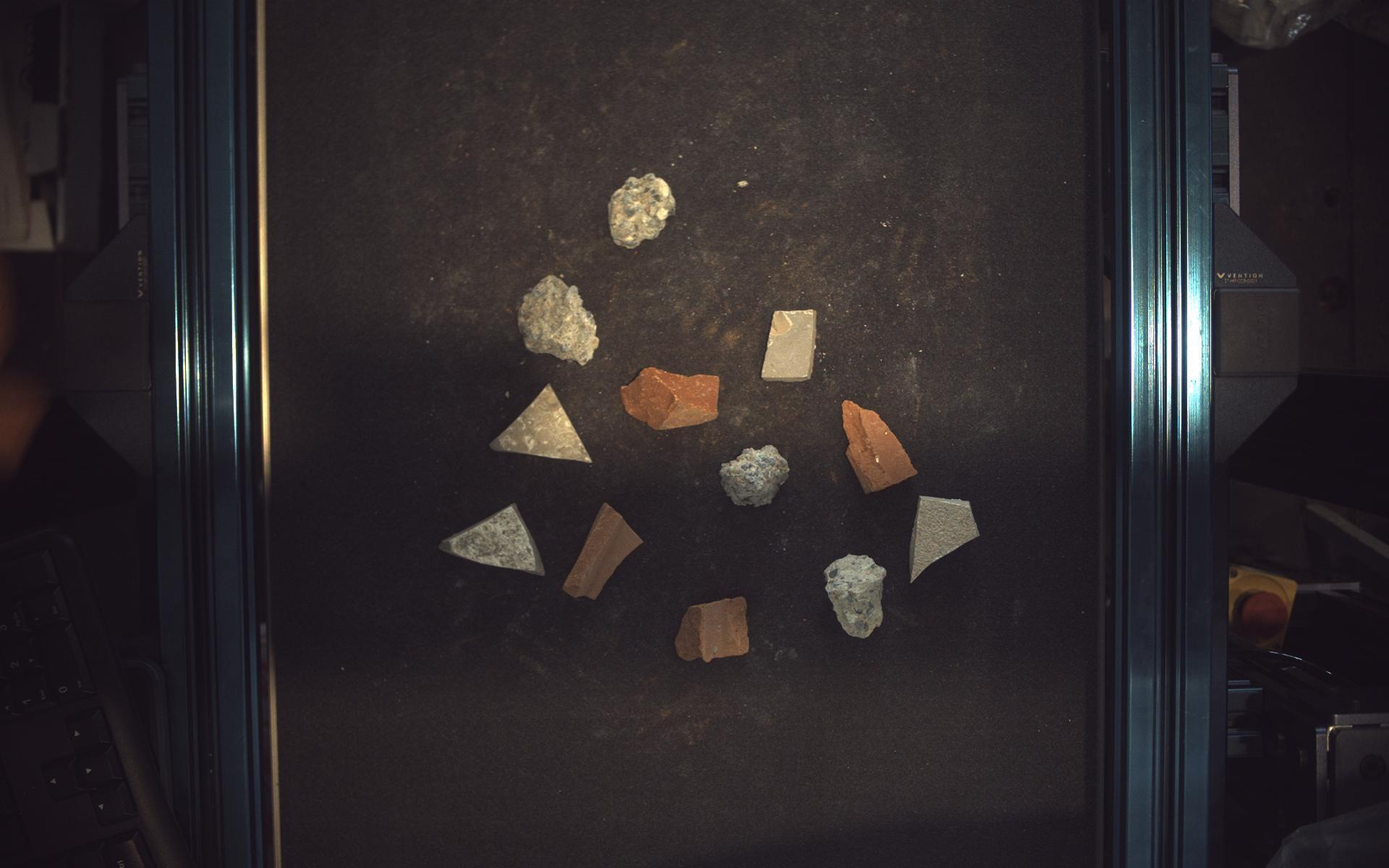brick: (564, 503, 643, 600), (845, 400, 918, 493), (621, 367, 721, 430), (676, 597, 749, 663)
concrete: (518, 275, 600, 365), (827, 555, 888, 639), (609, 172, 676, 248), (721, 445, 791, 507)
tile: (490, 385, 592, 463), (439, 504, 545, 576), (912, 496, 982, 582), (763, 310, 817, 381)
